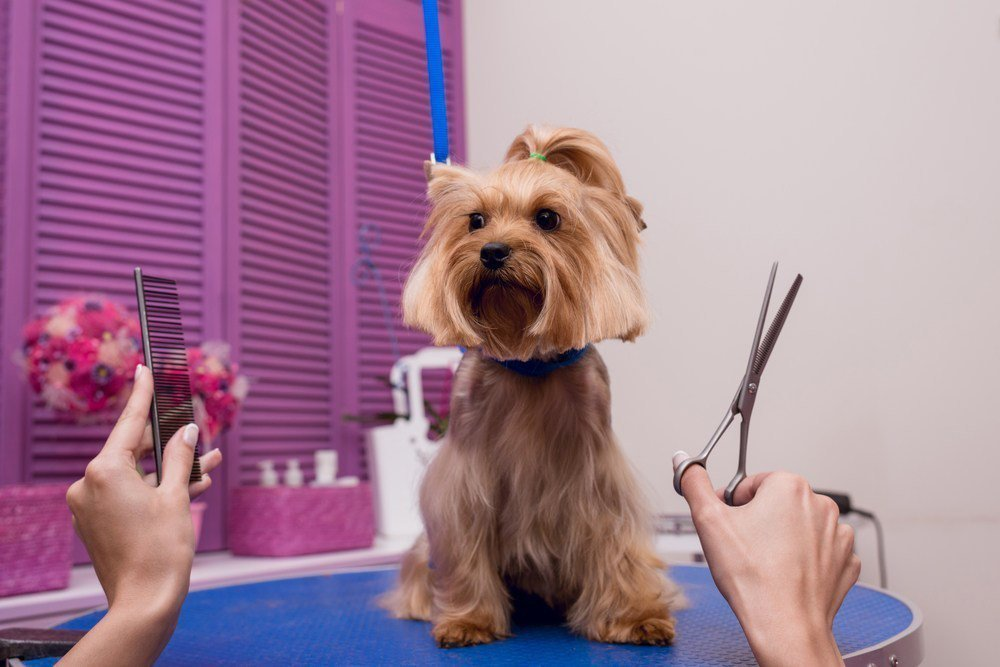dog: (407, 124, 689, 646)
